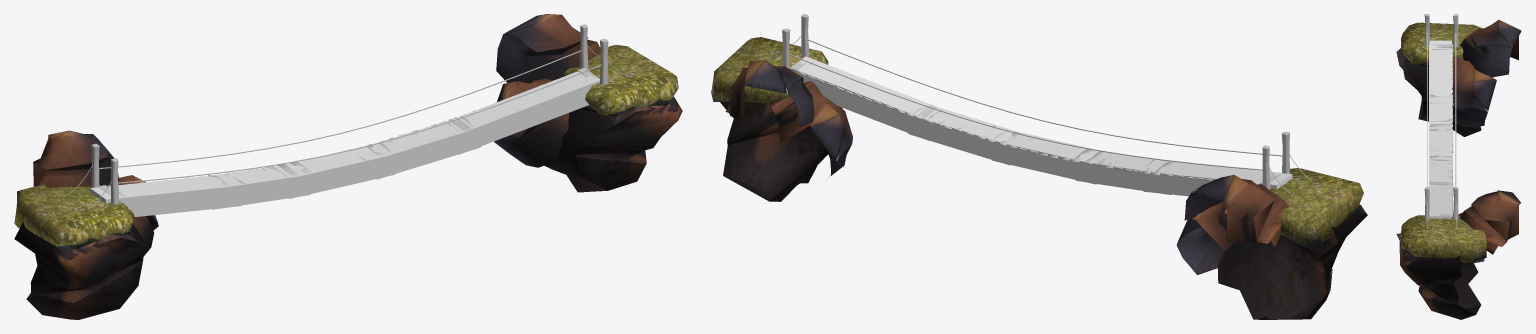
File: UCX_Pont_MCDCX.FBX
3 renders of one model, left to right at view 1: azimuth 30°, elevation 25°; view 2: azimuth 150°, elevation 25°; view 3: azimuth 270°, elevation 25°, orthographic. The views are drawn at different scales.
Visible parts, largest first — view 1: Object001, Object002, Box004, Pont_Suspendu; view 2: Object002, Object001, Box004, Pont_Suspendu; view 3: Object001, Object002, Box004, Pont_Suspendu.
Part boxes in pixels (<box>): Object001: <box>494,14,682,192</box>; Object002: <box>14,130,158,319</box>; Box004: <box>90,71,599,216</box>; Pont_Suspendu: <box>68,24,630,209</box>; Object002: <box>1176,168,1367,319</box>; Object001: <box>711,37,852,201</box>; Box004: <box>797,56,1292,196</box>; Pont_Suspendu: <box>768,14,1311,195</box>; Object001: <box>1396,190,1520,319</box>; Object002: <box>1396,20,1521,136</box>; Box004: <box>1429,40,1451,218</box>; Pont_Suspendu: <box>1424,14,1458,228</box>.
Bounding box in the file's own units: 22.33 × 5.7 × 5.22.
